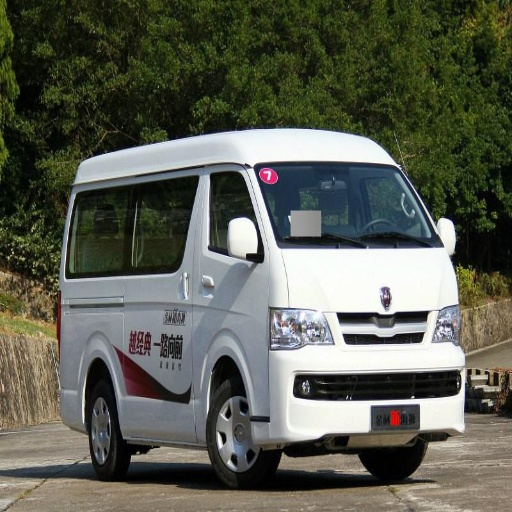front_bumper: (251, 309, 462, 446)
front_right_door: (195, 167, 268, 319)
front_right_light: (272, 309, 333, 347)
hood: (289, 248, 455, 313)
trunk: (56, 282, 217, 399)
